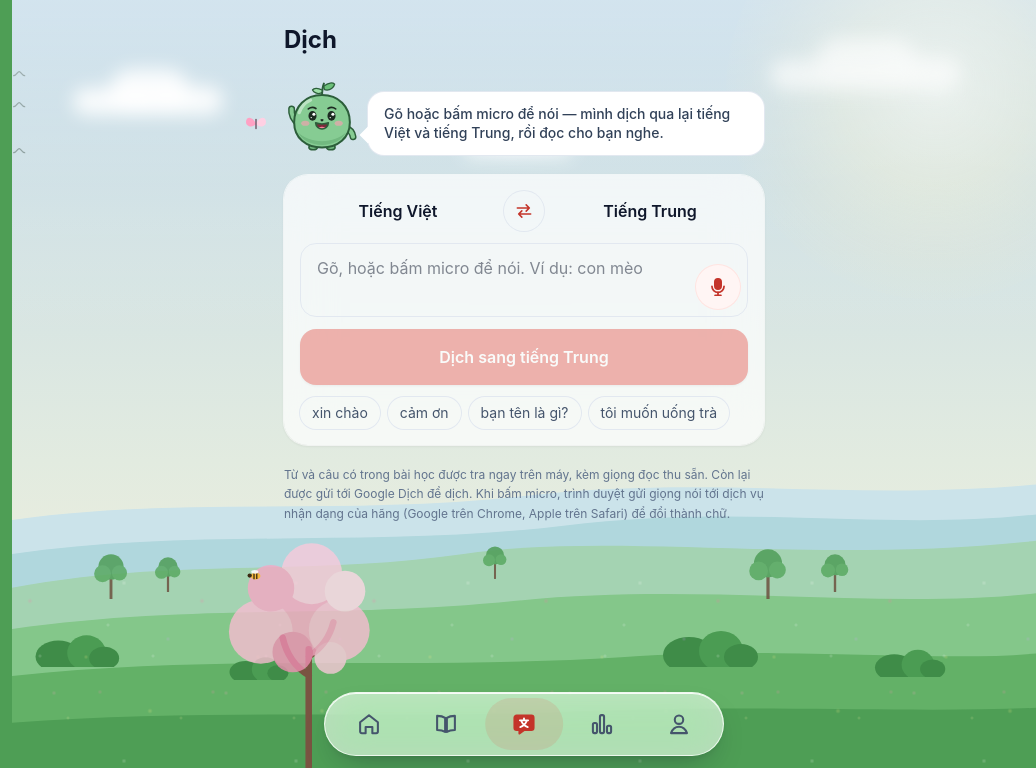
Test: Màn Dịch — đổi chiều, Trung → Việt › đổi chiều thì nhãn, gợi ý và nút dịch đổi theo
Click the button named "Đổi chiều dịch" at (524, 210), box [504,190,544,230]
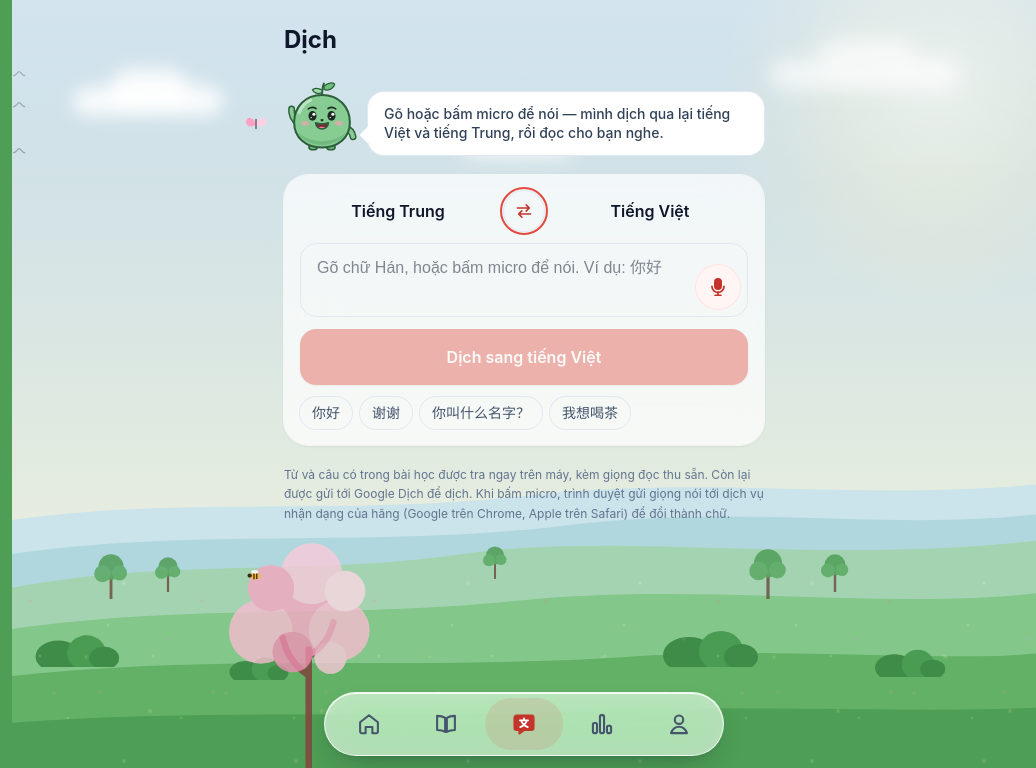
Expected: the text box named "Tiếng Trung" is shown, [300,242,748,316]
Expected: the button "Dịch sang tiếng Việt" is shown, [300,328,748,384]
Expected: the button "你好" is shown, [300,396,352,428]
